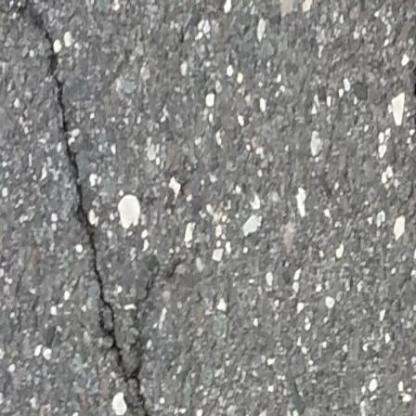Cracks: (0, 3, 188, 416)
